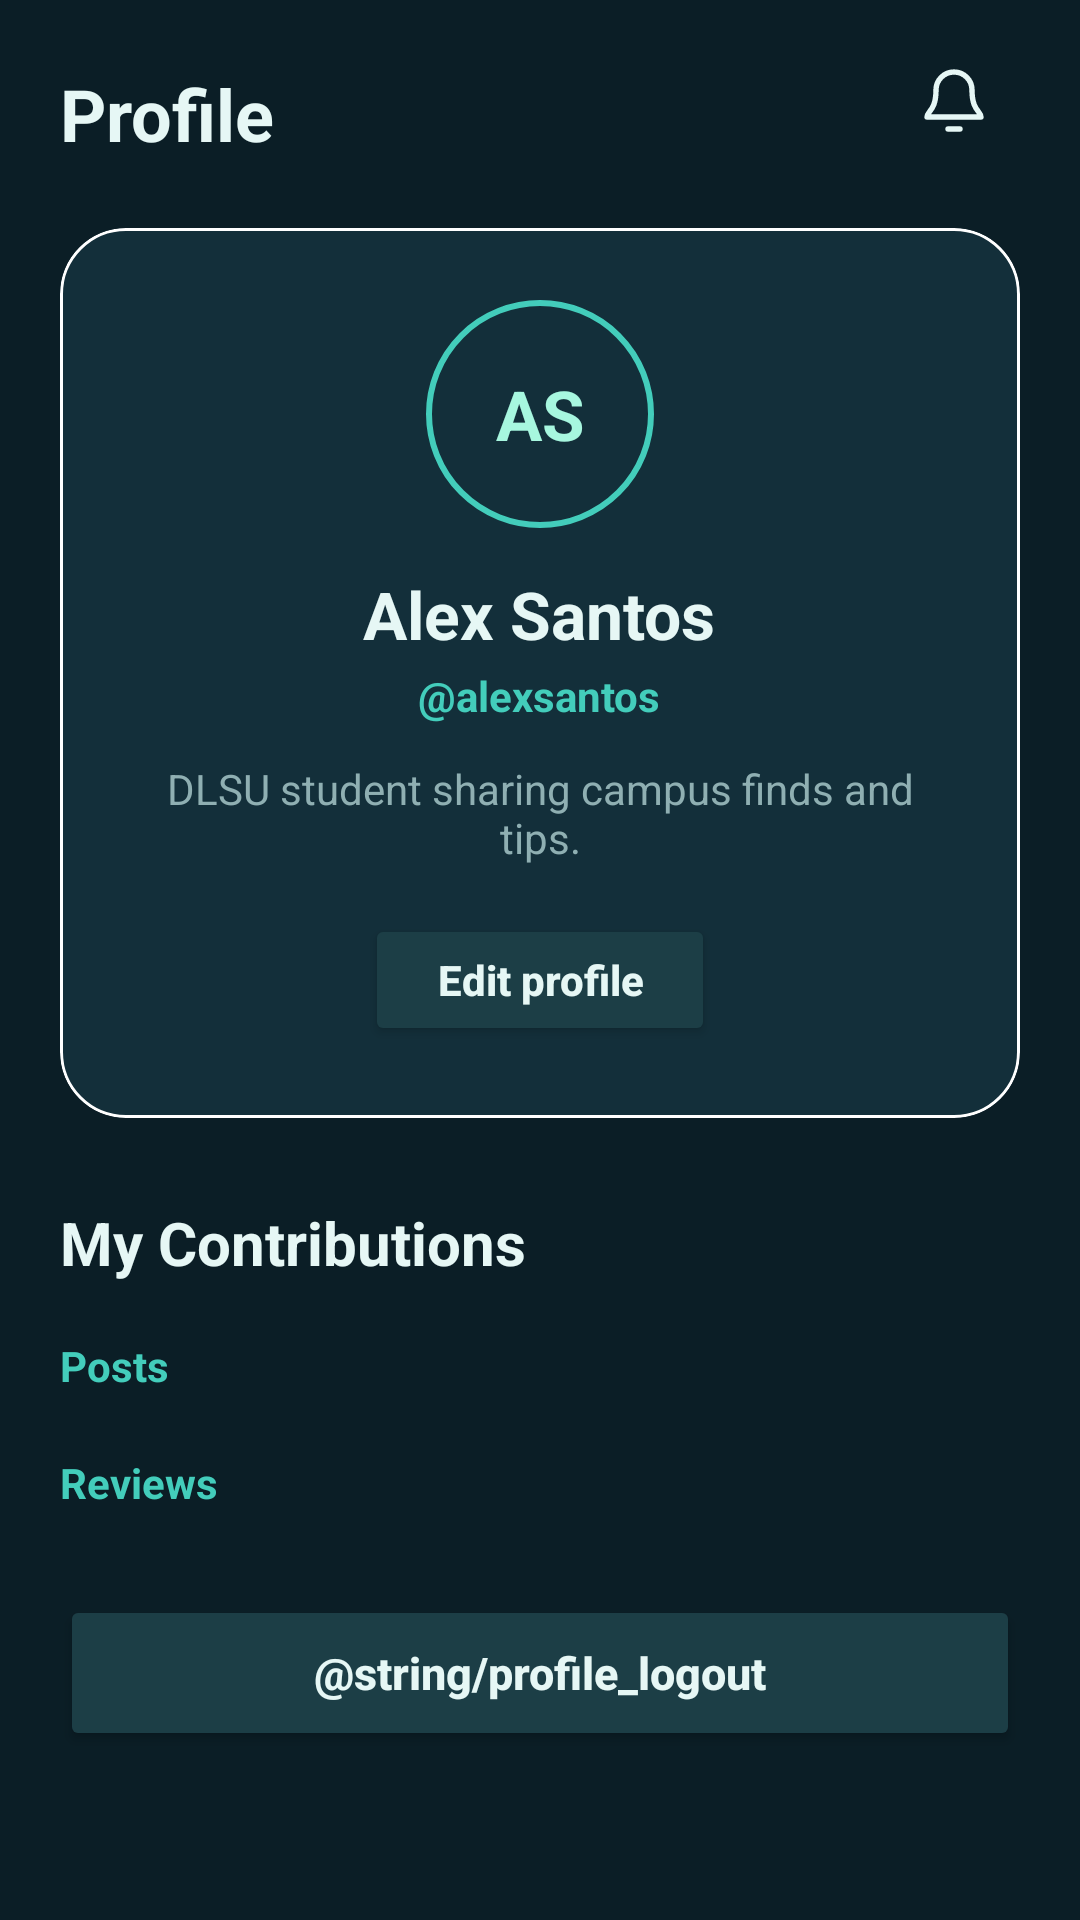

Named icons in this screenshot (1080w x 1920h) and their bounding boxes, [x1=x1, y1=y1, x2=x2, y2=y2]:
Notifications: [x1=924, y1=69, x2=984, y2=132]
